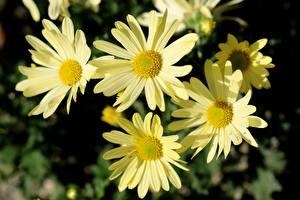chamomile: (180, 76, 256, 144), (113, 28, 178, 99), (116, 127, 180, 189), (30, 34, 82, 109), (227, 36, 261, 86)
